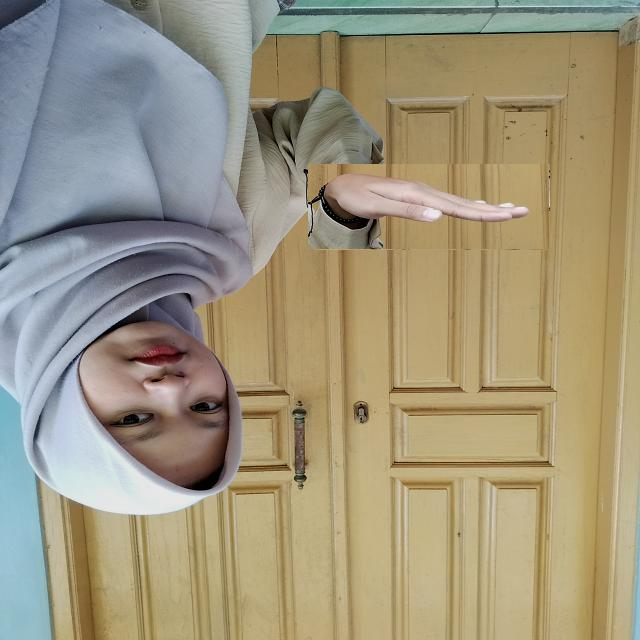adik: (308, 164, 550, 250)
